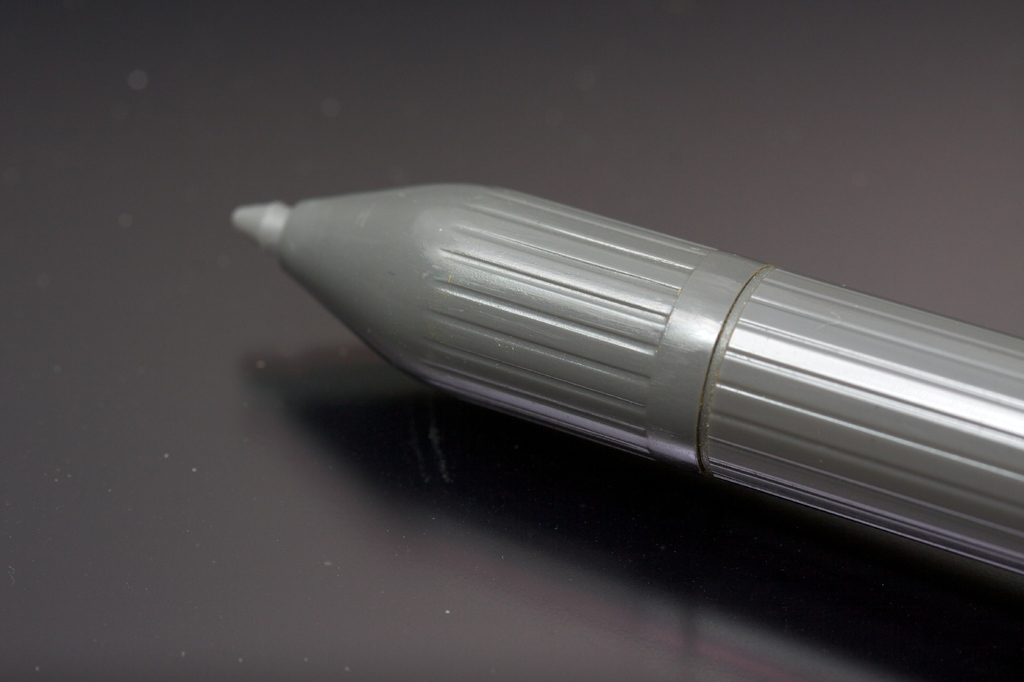Pen: (230, 172, 1023, 596)
